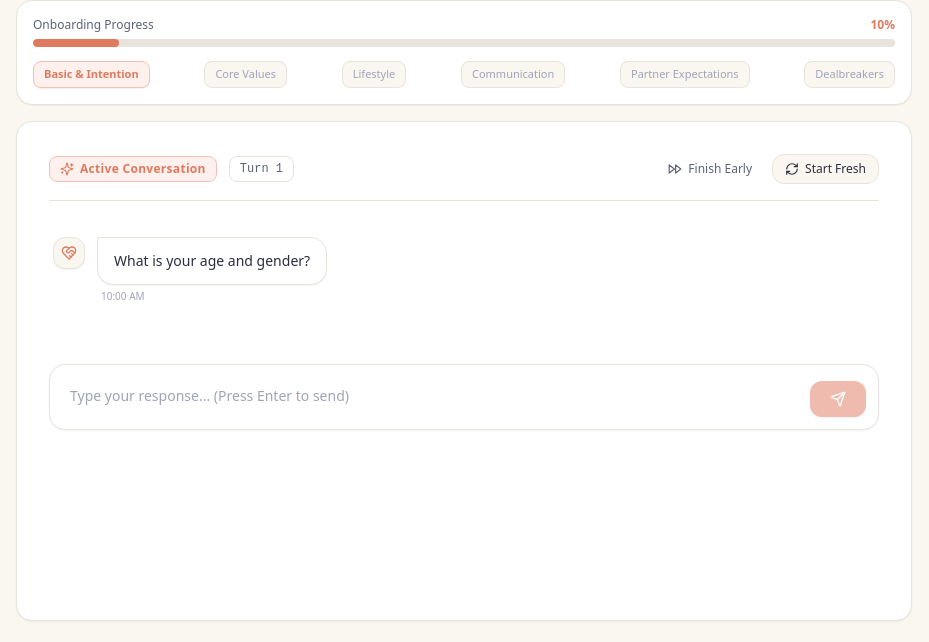
InterviewPage Component › retains draft and shows explicit retry action when turn submission fails
expect the text "What is your age and gender?" is shown: met, box [114,250,310,272]
Type "My name is Alex" into the text box with placeholder "Type your response... (Press Enter to send)" at (432, 397), box [62,377,802,417]
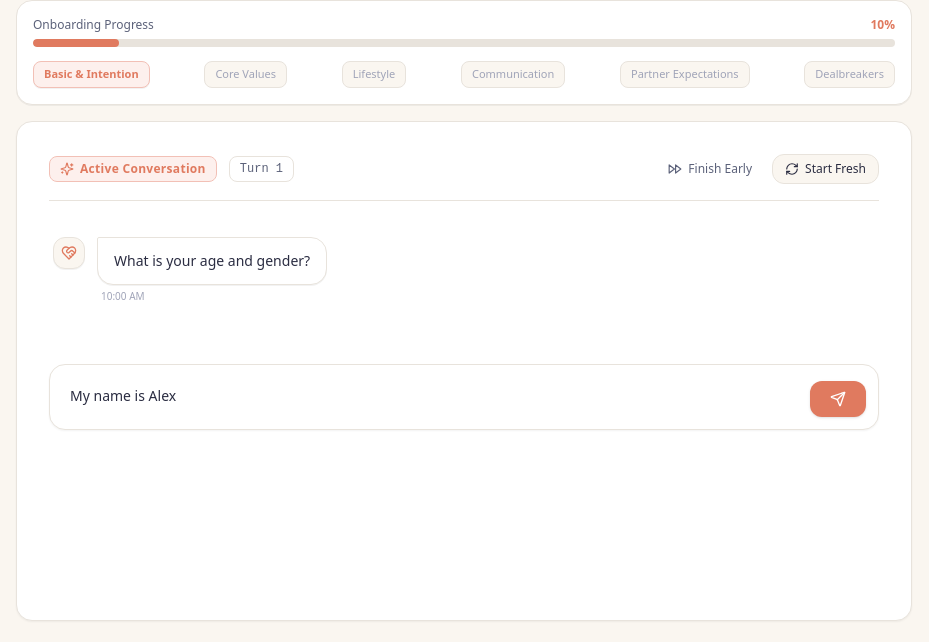
Click the 3rd button at (838, 399), box [810,381,866,417]
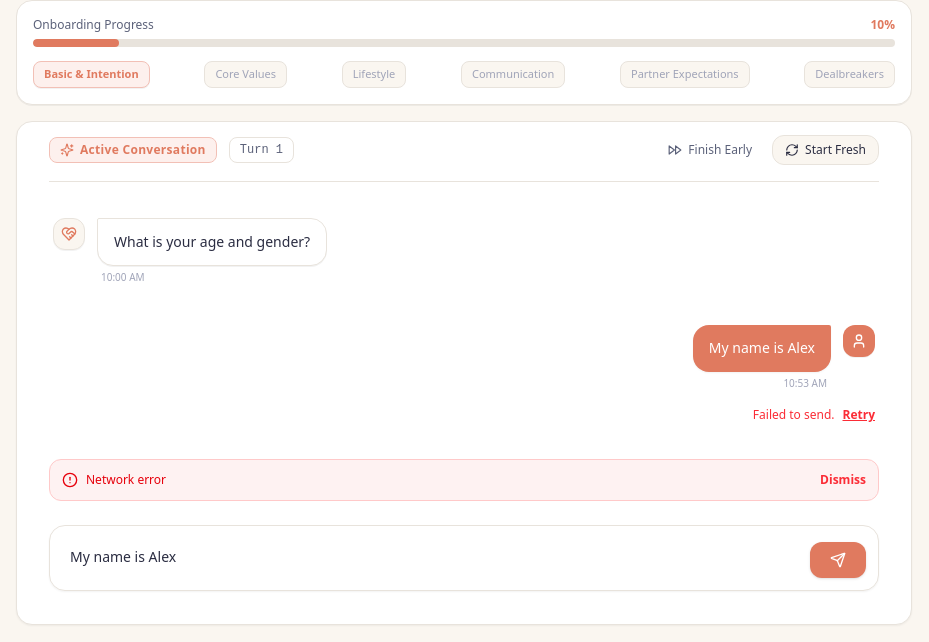
expect the text "Failed to send." is shown: met, box [753,407,834,423]
expect the button "Retry" is shown: met, box [842,407,875,423]
